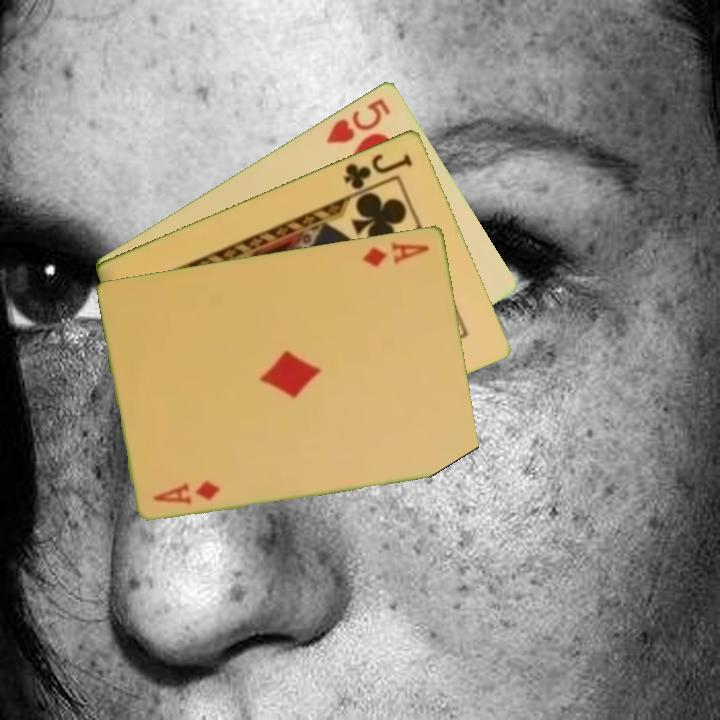5h: (322, 94, 394, 146)
Ad: (359, 238, 433, 270), (150, 477, 224, 507)
Jc: (340, 149, 416, 192)
